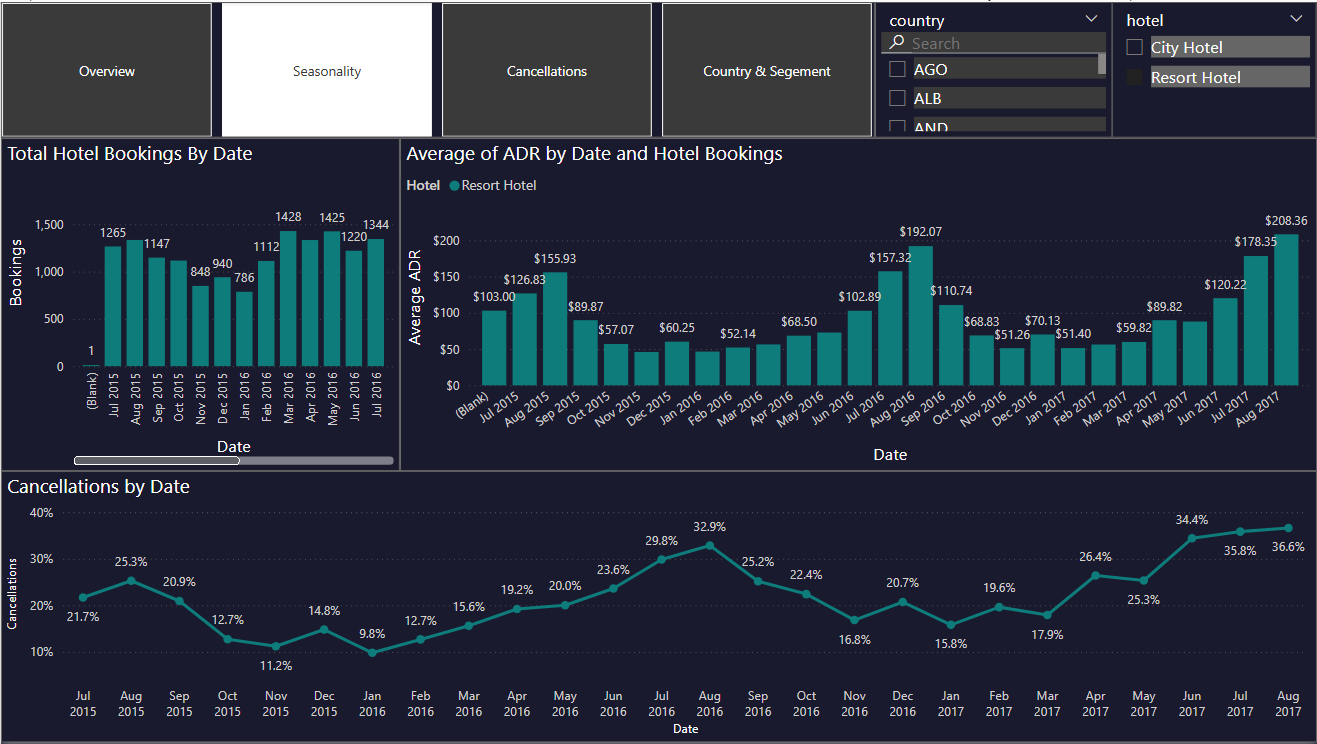

The page's visual inventory and layout, read from the dashboard file:
{"tool":"powerbi","page":{"name":"Seasonality","canvas":[1280,720],"ordinal":1},"visuals":[{"type":"lineChart","title":"Cancellations by Date","fields":{"Y":["Sheet1.True Cancellation"],"Category":["Sheet1.Year_month_label"]},"box":[0,456.2,1280,263.6],"z":0},{"type":"clusteredColumnChart","title":"Average of ADR by Date and Hotel Bookings","fields":{"Series":["Sheet1.hotel"],"Y":["Avg(Sheet1.adr)"],"Category":["Sheet1.Year_month_label"]},"box":[388.1,132.3,891.9,323.9],"z":1000},{"type":"clusteredColumnChart","title":"Total Hotel Bookings By Date","fields":{"Y":["CountNonNull(Sheet1.hotel)"],"Category":["Sheet1.Year_month_label"]},"box":[0,132.3,388.1,323.9],"z":2000},{"type":"slicer","fields":{"Values":["Sheet1.hotel"]},"box":[1080.6,0,199.4,132.3],"z":3000},{"type":"slicer","fields":{"Values":["Sheet1.country"]},"box":[850.1,0,230.5,132.3],"z":4000},{"type":"pageNavigator","box":[0,0,850.1,132.3],"z":5000}]}

Visuals, with their boxes in screenshot pixels (x1, y1, x2, y2), scaled from the page's 1280x720 canvas onto the 1317x744 screenshot:
"Cancellations by Date" lineChart: Rect(0, 471, 1316, 743)
"Average of ADR by Date and Hotel Bookings" clusteredColumnChart: Rect(399, 137, 1316, 471)
"Total Hotel Bookings By Date" clusteredColumnChart: Rect(0, 137, 399, 471)
slicer - Sheet1.hotel: Rect(1112, 0, 1316, 137)
slicer - Sheet1.country: Rect(875, 0, 1112, 137)
pageNavigator: Rect(0, 0, 875, 137)
